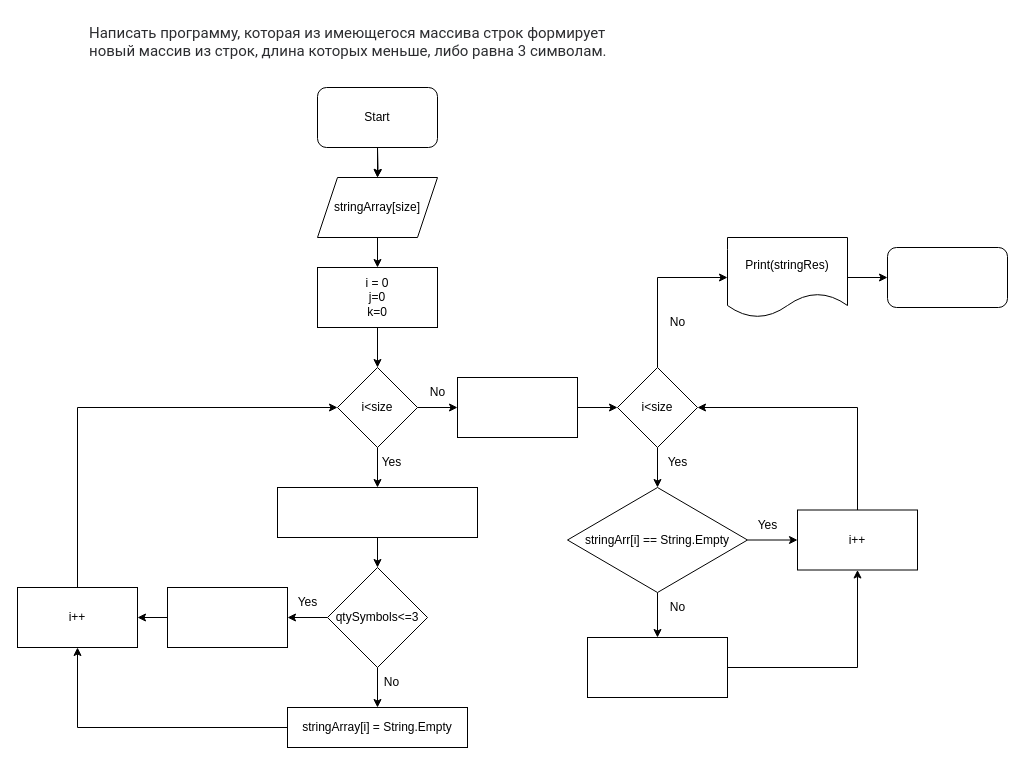
Some shapes in this 1025 by 765 pixel diagram are drawn without their labels. The shapes that lost their labels are listed below. From the top down, each one's centre as x and y in pixels, then its label:
At (x=947, y=277): "Finish".
At (x=517, y=407): "stringRes[j] i=0".
At (x=377, y=512): "charArr = stringArray[i] qtySymbols=charArr.length".
At (x=227, y=617): "j++".
At (x=657, y=667): "stringRes[k]=stringArr[i] k++".
